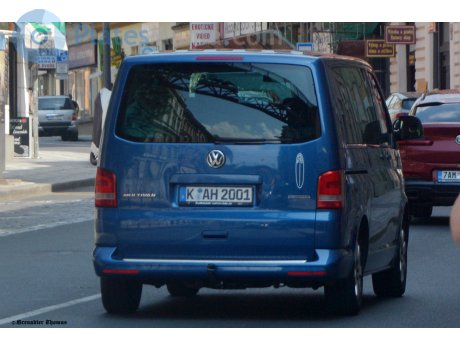License Plates: (184, 184, 250, 196)
